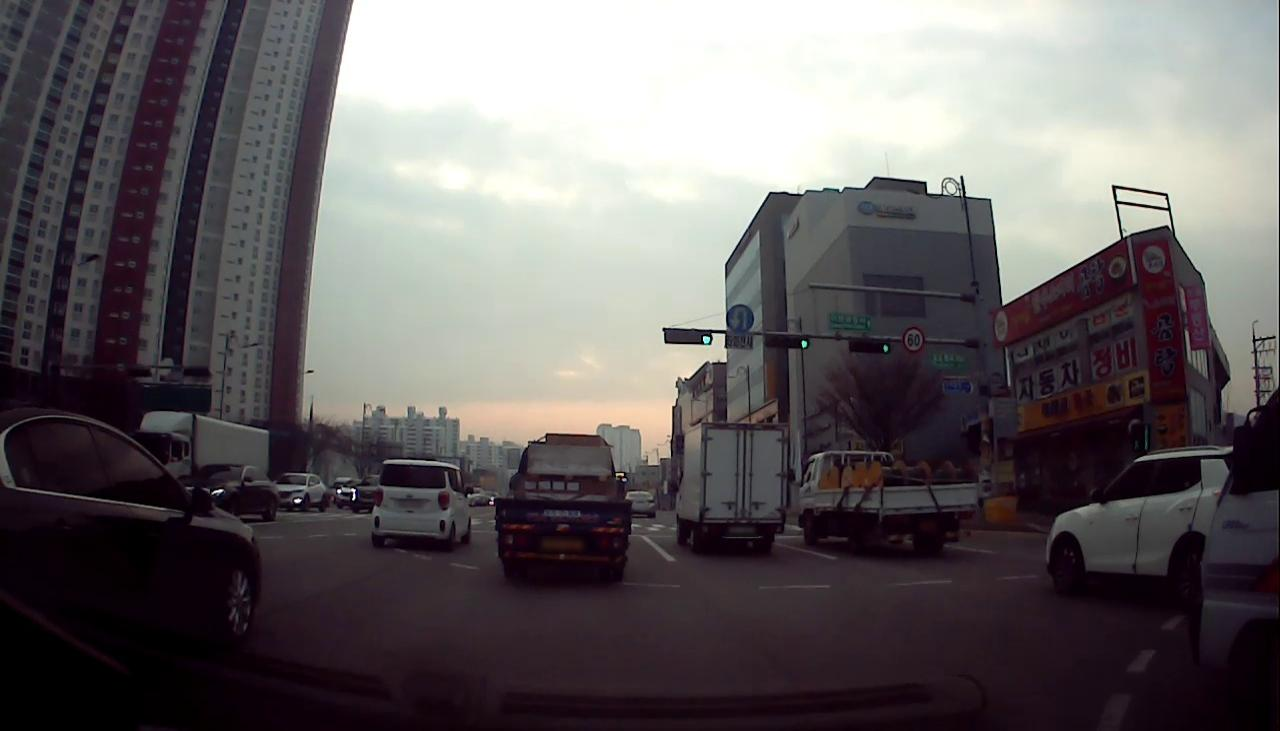Green Light: (698, 331, 713, 347), (796, 336, 811, 350), (880, 338, 890, 355)
